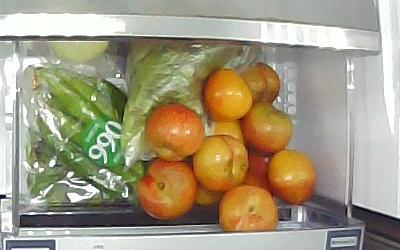prune: (136, 159, 197, 221), (145, 103, 205, 163), (192, 134, 249, 193), (219, 185, 278, 233), (268, 149, 317, 206), (240, 103, 293, 155), (203, 68, 253, 123), (241, 63, 280, 103), (246, 148, 272, 192)
